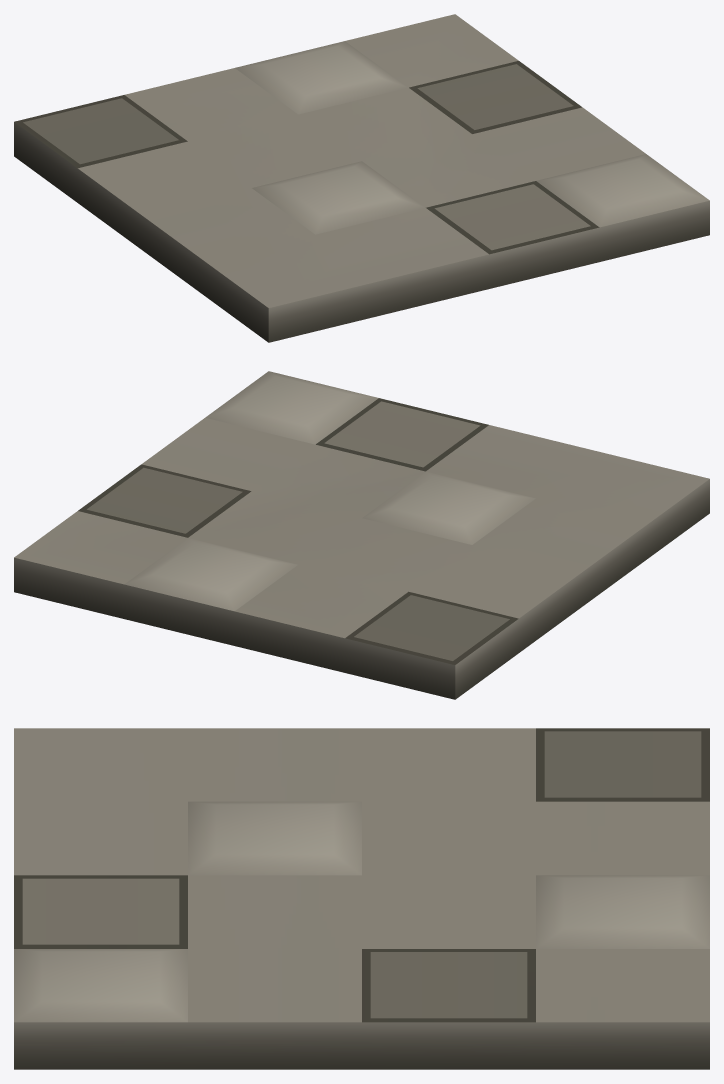
File: Pavement_1O_4x4.fbx
3 views of the same model, one above another, from view 1: azimuth 30°, elevation 25°; view 2: azimuth 150°, elevation 25°; view 3: azimuth 270°, elevation 25° (orthographic). The views are drawn at different scales.
Visible parts, largest first — view 1: Pavement_1O_4x4; view 2: Pavement_1O_4x4; view 3: Pavement_1O_4x4.
Part boxes in pixels (left/top/right/bottom): Pavement_1O_4x4: left=14, top=14, right=709, bottom=342; Pavement_1O_4x4: left=14, top=371, right=709, bottom=699; Pavement_1O_4x4: left=14, top=728, right=709, bottom=1069.
Bounding box in the file's own units: 4 × 0.3565 × 4.
